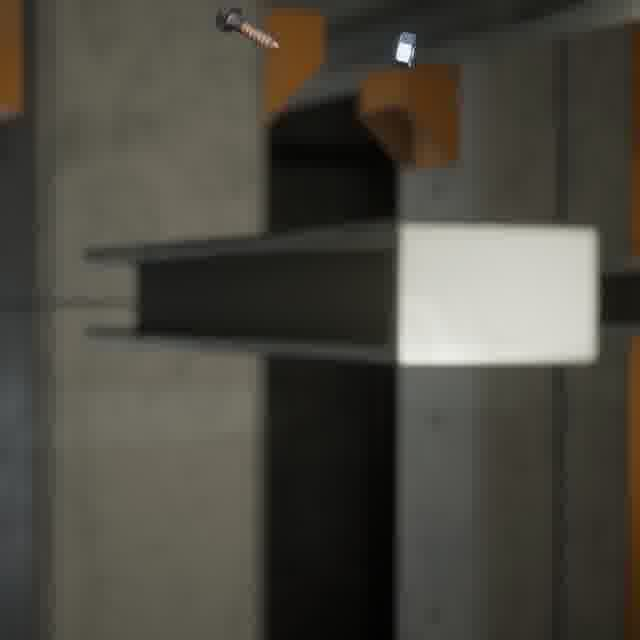bolt: (211, 0, 284, 57)
nut: (390, 27, 421, 72)
